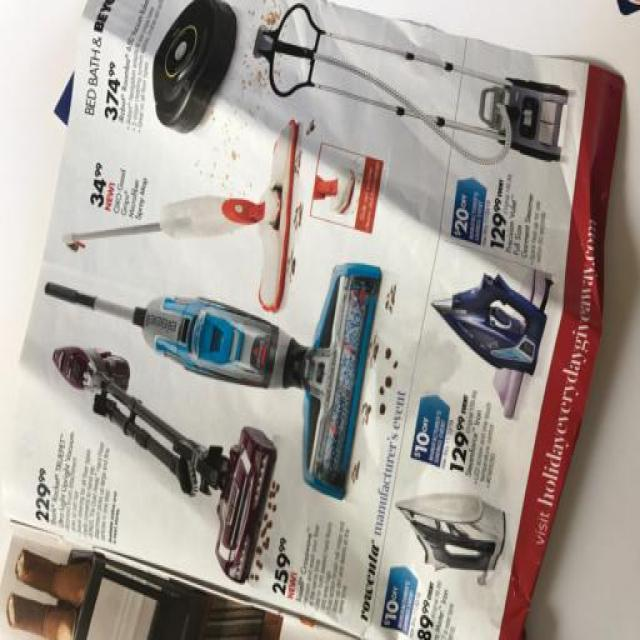cardboard paper: (0, 0, 619, 639)
